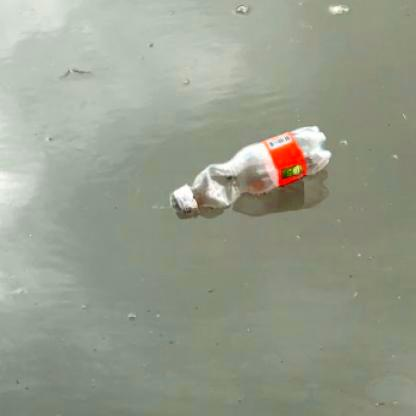Plastic: (160, 121, 334, 216)
